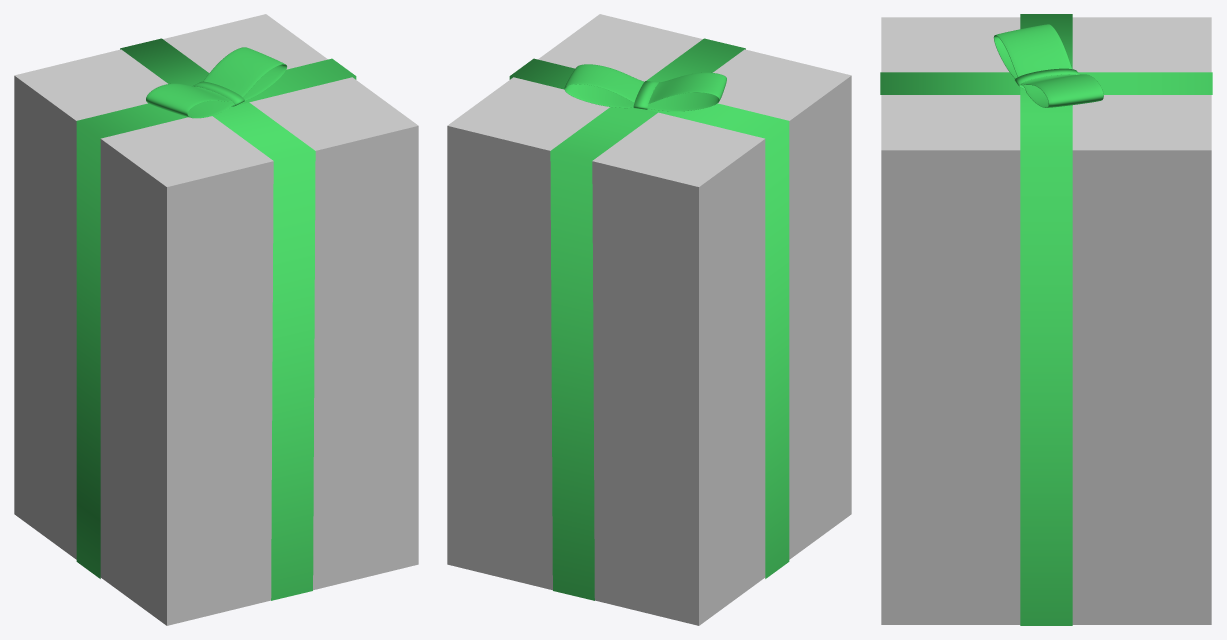
Rendered from Presente_02.fbx.
The picture shows the model from 3 angles, left to right: view 1: azimuth 30°, elevation 25°; view 2: azimuth 150°, elevation 25°; view 3: azimuth 270°, elevation 25°; orthographic projection. The views are drawn at different scales.
Visible parts, largest first — view 1: Presente_02; view 2: Presente_02; view 3: Presente_02.
Boxes of the visible parts, bbox=[...] form: Presente_02: bbox=[14, 14, 418, 625]; Presente_02: bbox=[447, 14, 851, 625]; Presente_02: bbox=[880, 14, 1212, 625].
Size of the model in its own units: 85.53 by 148 by 89.08.
